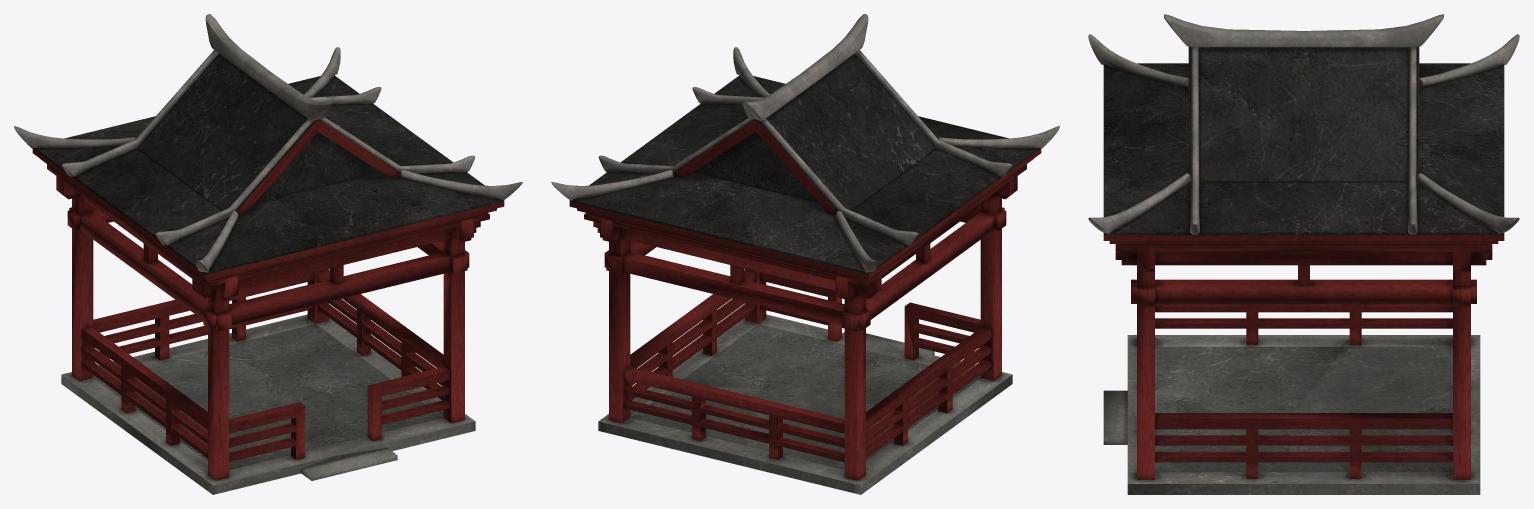
Rendered from cn_pavilion.glb.
3 views of the same model, side by side, from view 1: azimuth 30°, elevation 25°; view 2: azimuth 150°, elevation 25°; view 3: azimuth 270°, elevation 25° (orthographic). The views are drawn at different scales.
Visible parts, largest first — view 1: cn_pavilion; view 2: cn_pavilion; view 3: cn_pavilion.
Part boxes in pixels (x1,y1,x2,y2): cn_pavilion: (14,14,522,494); cn_pavilion: (551,14,1059,494); cn_pavilion: (1088,14,1519,494).
Size of the model in its own units: 5.27 by 5.4 by 5.2.
3 materials, 3 textured.
